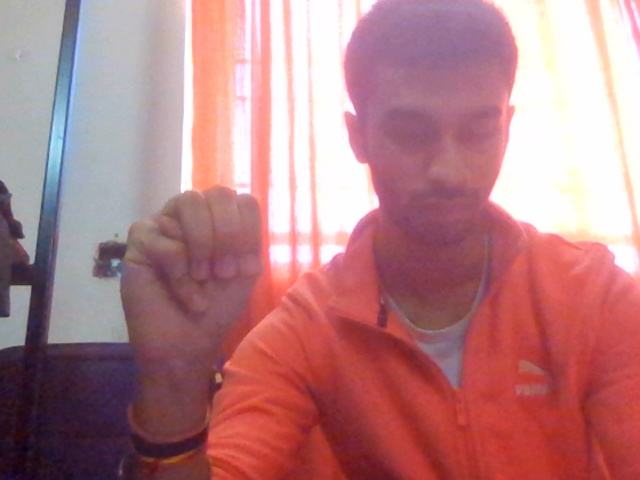M: (95, 148, 306, 379)
